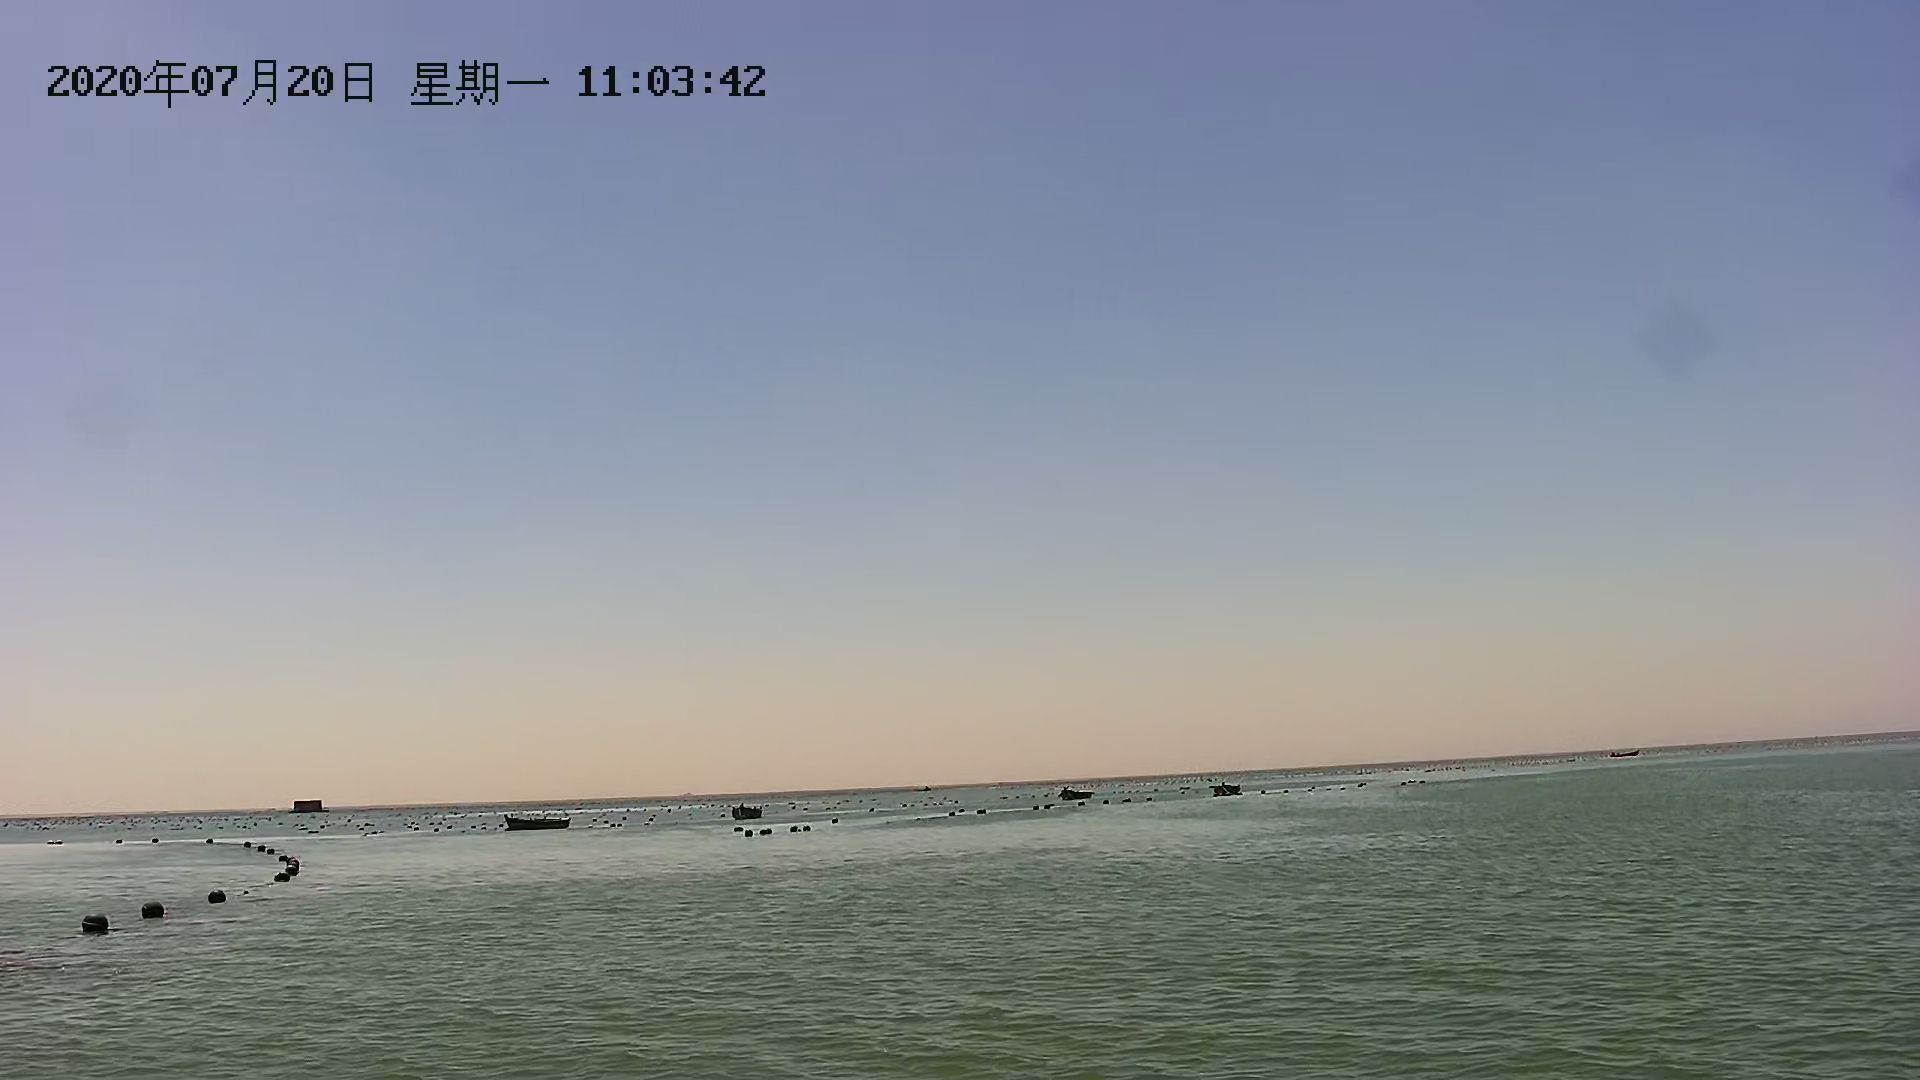ball: (131, 894, 174, 928), (74, 911, 116, 940), (204, 884, 229, 911), (272, 866, 293, 894)
boat: (501, 812, 578, 833), (1050, 782, 1104, 811), (1207, 779, 1253, 806), (727, 798, 769, 825), (1606, 744, 1644, 764)
platform: (290, 793, 330, 820)
